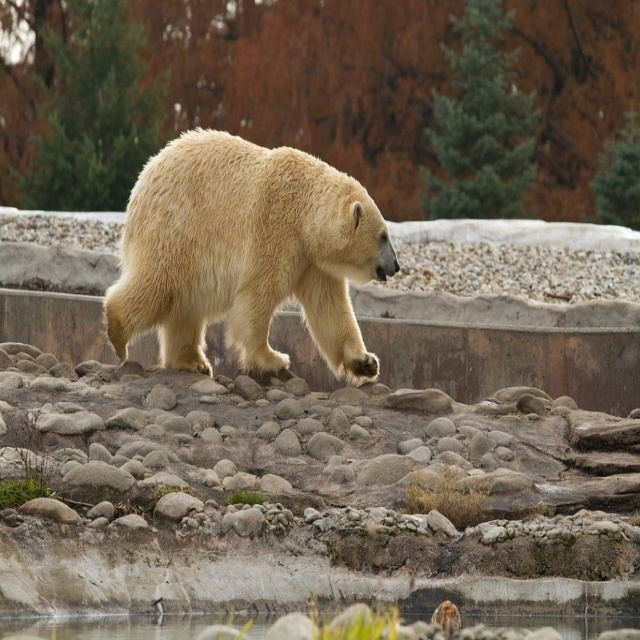Polar bear: (100, 119, 400, 374)
